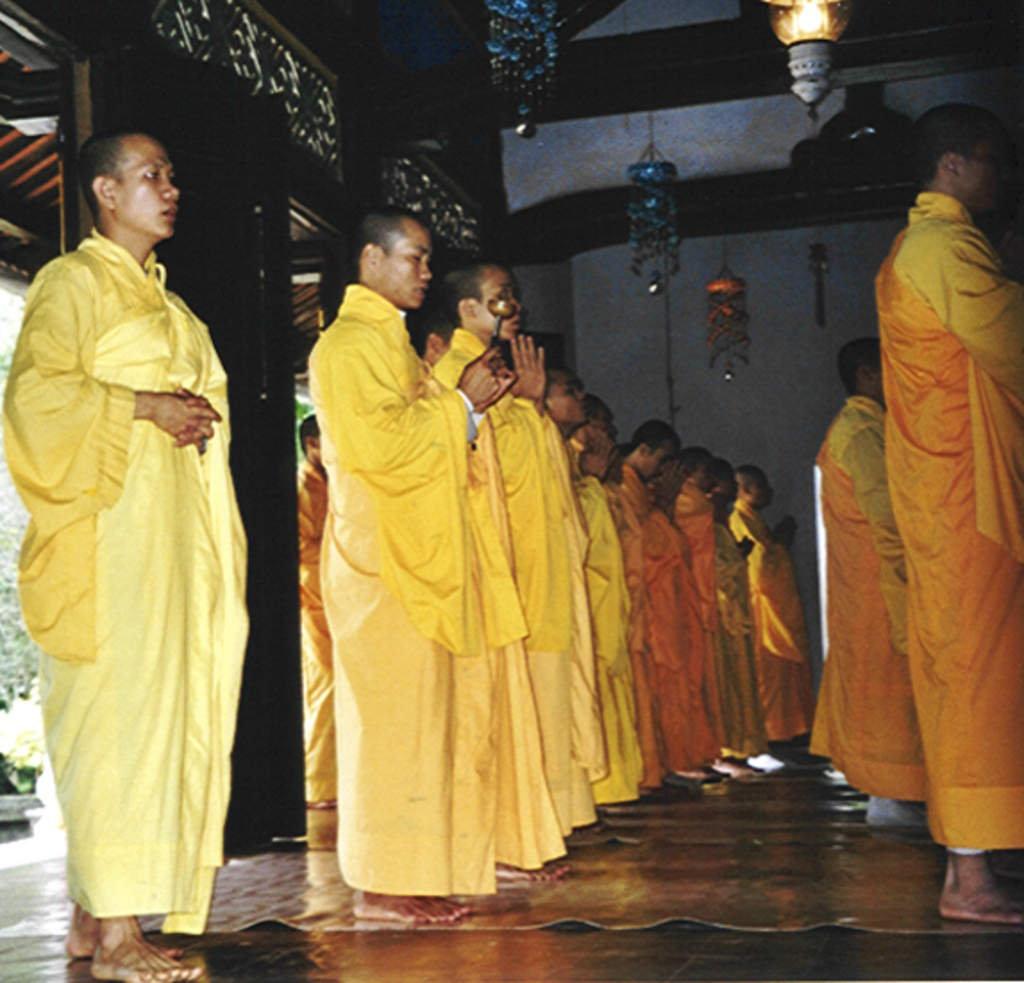Person: (290, 211, 810, 929), (0, 128, 246, 983), (883, 99, 1024, 924), (807, 337, 922, 802)
